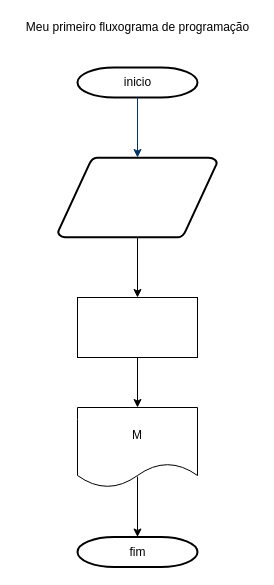
The diagram is 274 pixels wide and 585 high, and some of its shapes have lost their labels. Here are the shapes that lost their labels. From the top down, the centre of each, then its label:
At point (137, 197): "N1, N2".
At point (137, 327): "M = N1 * N2".
